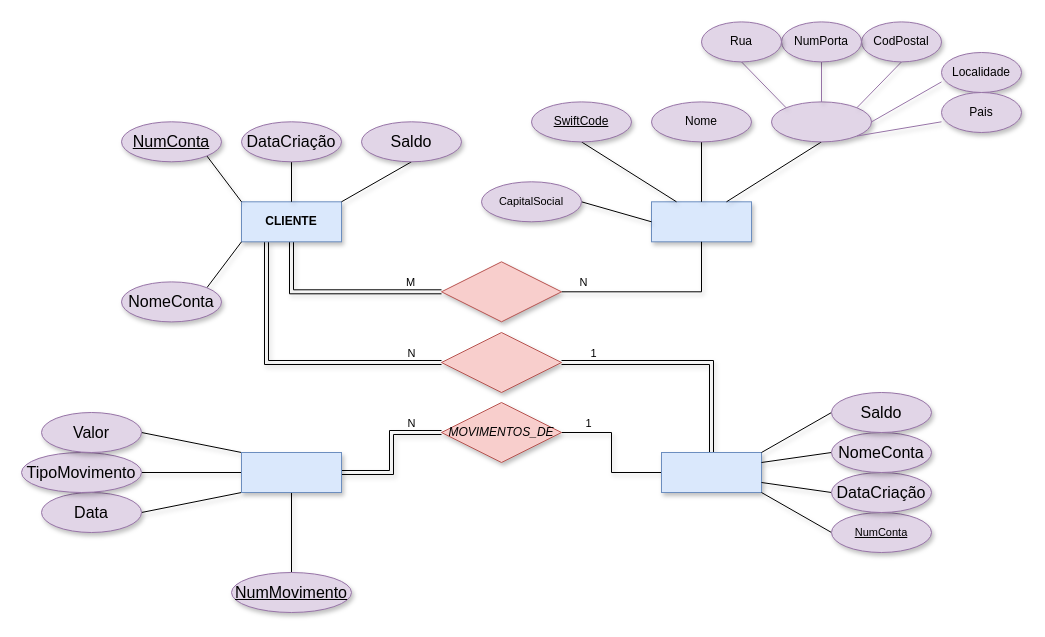
The diagram is 1045 pixels wide and 637 high, and some of its shapes have lost their labels. Here are the shapes that lost their labels. From the top down, the centre of each, then its label:
At [822,123]: "Morada".
At [702,223]: "BANCO".
At [502,293]: "PERTENCE_A".
At [502,364]: "CONTA_DE".
At [292,474]: "MOVIMENTOS".
At [712,474]: "CONTA".
